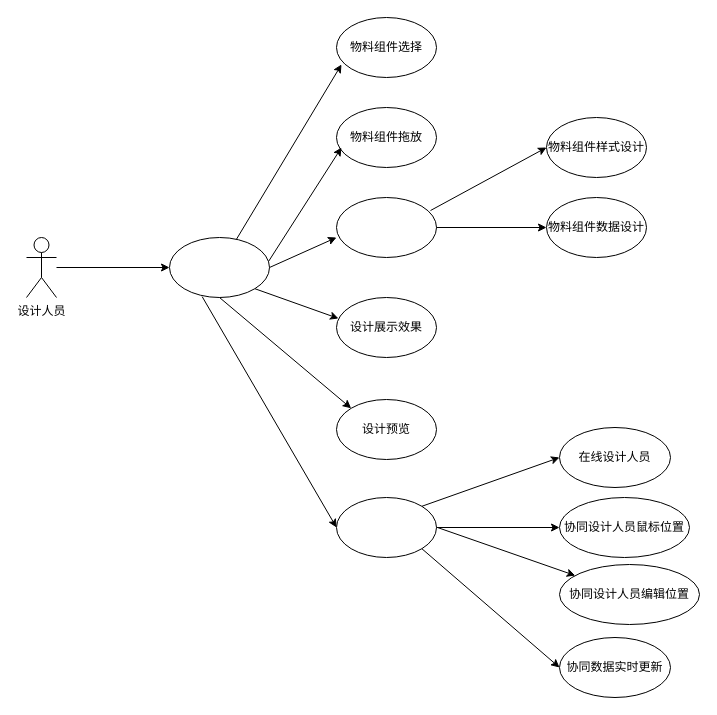
This 717x715 diagram has some shape labels left out. The shapes that lost their labels are listed below. From the top down, each one's centre as x and y in pixels, then its label:
At [386,227]: "物料组件属性面板".
At [219,267]: "H5活动页面设计".
At [386,527]: "协同设计".
